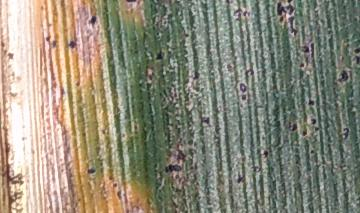tarspot: (287, 15, 299, 37), (163, 163, 183, 174), (336, 69, 349, 85), (274, 1, 287, 16), (175, 148, 187, 163), (340, 126, 350, 142), (287, 120, 298, 134), (283, 4, 296, 15), (87, 15, 98, 27), (236, 81, 247, 93), (299, 44, 311, 55), (236, 170, 245, 184), (200, 115, 211, 126), (67, 39, 78, 49), (153, 51, 164, 61), (250, 165, 262, 174), (213, 124, 222, 136), (225, 62, 234, 74), (192, 70, 201, 80), (244, 68, 255, 76), (116, 189, 123, 201), (238, 93, 247, 102), (300, 129, 309, 138), (306, 98, 315, 107), (50, 39, 58, 49), (232, 7, 242, 15), (309, 117, 317, 126), (99, 127, 107, 136), (132, 123, 138, 135), (86, 167, 96, 174), (354, 55, 360, 66), (44, 35, 52, 43), (6, 52, 14, 60), (262, 149, 269, 158), (74, 79, 81, 87), (352, 47, 360, 54), (298, 62, 305, 70), (111, 181, 119, 188), (39, 4, 46, 12), (242, 9, 248, 18), (313, 126, 320, 133), (278, 15, 284, 23), (308, 149, 315, 155), (183, 32, 190, 38), (120, 132, 127, 138), (20, 135, 26, 142), (99, 161, 105, 167), (81, 131, 86, 138), (154, 31, 161, 36), (284, 1, 294, 4), (123, 1, 138, 3), (76, 197, 82, 202), (246, 10, 250, 17), (224, 1, 231, 5), (89, 1, 96, 4)
